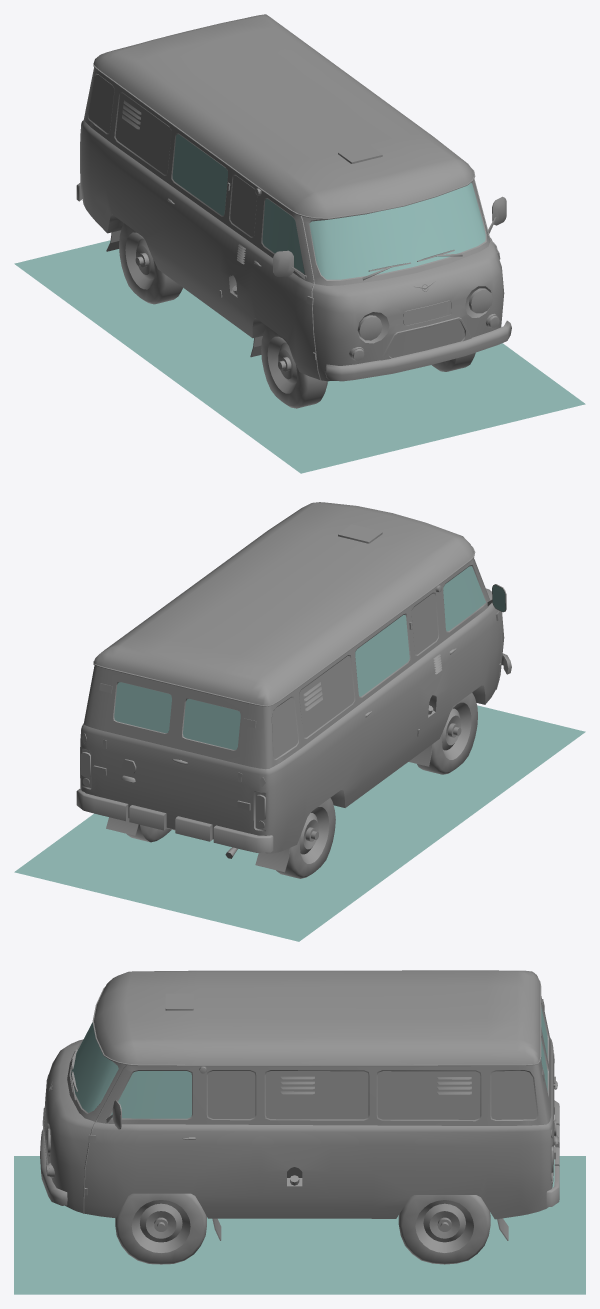
The picture shows the model from 3 angles, top to bottom: view 1: azimuth 30°, elevation 25°; view 2: azimuth 150°, elevation 25°; view 3: azimuth 270°, elevation 25°; orthographic projection.
Parts seen in each view (by area): view 1: UAZ-453_high, UAZ-453_high_ncl1_1; view 2: UAZ-453_high, UAZ-453_high_ncl1_1; view 3: UAZ-453_high, UAZ-453_high_ncl1_1.
Boxes of the visible parts, x1,y1,x2,y2 form: UAZ-453_high: [76, 14, 511, 408]; UAZ-453_high_ncl1_1: [14, 134, 585, 473]; UAZ-453_high: [76, 502, 511, 878]; UAZ-453_high_ncl1_1: [14, 566, 585, 941]; UAZ-453_high: [40, 970, 559, 1264]; UAZ-453_high_ncl1_1: [14, 1007, 585, 1294].
Size of the model in its own units: 1.26 by 0.9508 by 2.2.
